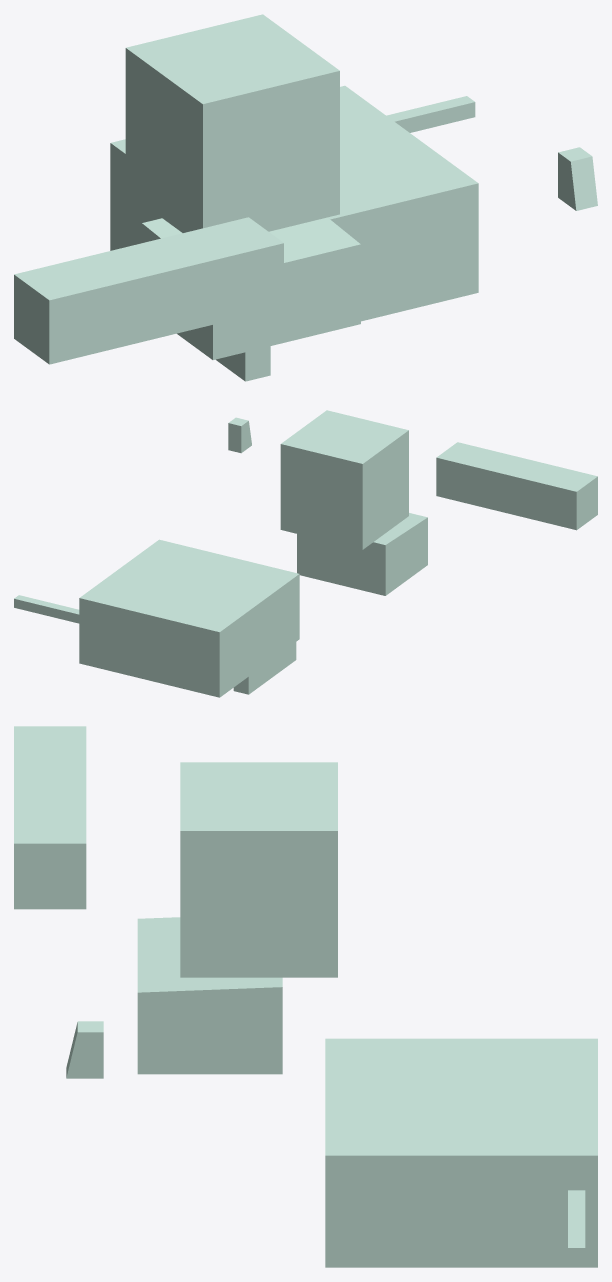
3 renders of one model, top to bottom at view 1: azimuth 30°, elevation 25°; view 2: azimuth 150°, elevation 25°; view 3: azimuth 270°, elevation 25°, orthographic. The views are drawn at different scales.
Parts seen in each view (by area): view 1: Renderer Node; view 2: Renderer Node; view 3: Renderer Node.
Part boxes in pixels (left/top/right/bottom): Renderer Node: left=14, top=14, right=597, bottom=381; Renderer Node: left=14, top=410, right=597, bottom=697; Renderer Node: left=14, top=726, right=597, bottom=1267.
Size of the model in its own units: 1.51 by 0.7422 by 1.07.
